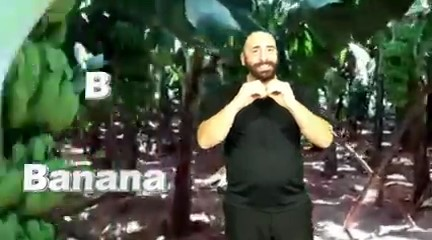B: (238, 79, 295, 109)
